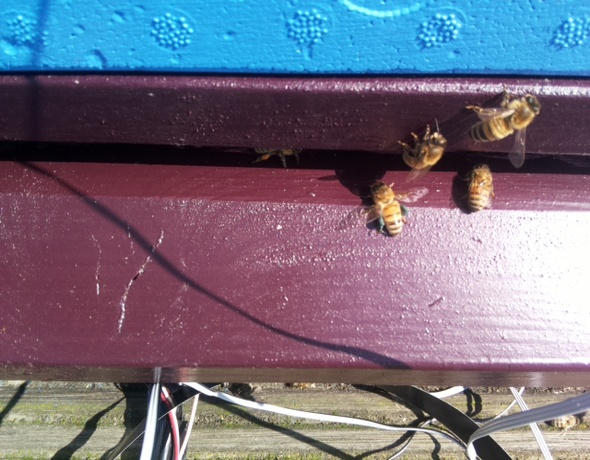no_pollen: (466, 90, 541, 149), (397, 124, 449, 175), (367, 179, 408, 239), (462, 163, 497, 214)
pollen: (250, 139, 307, 168)
